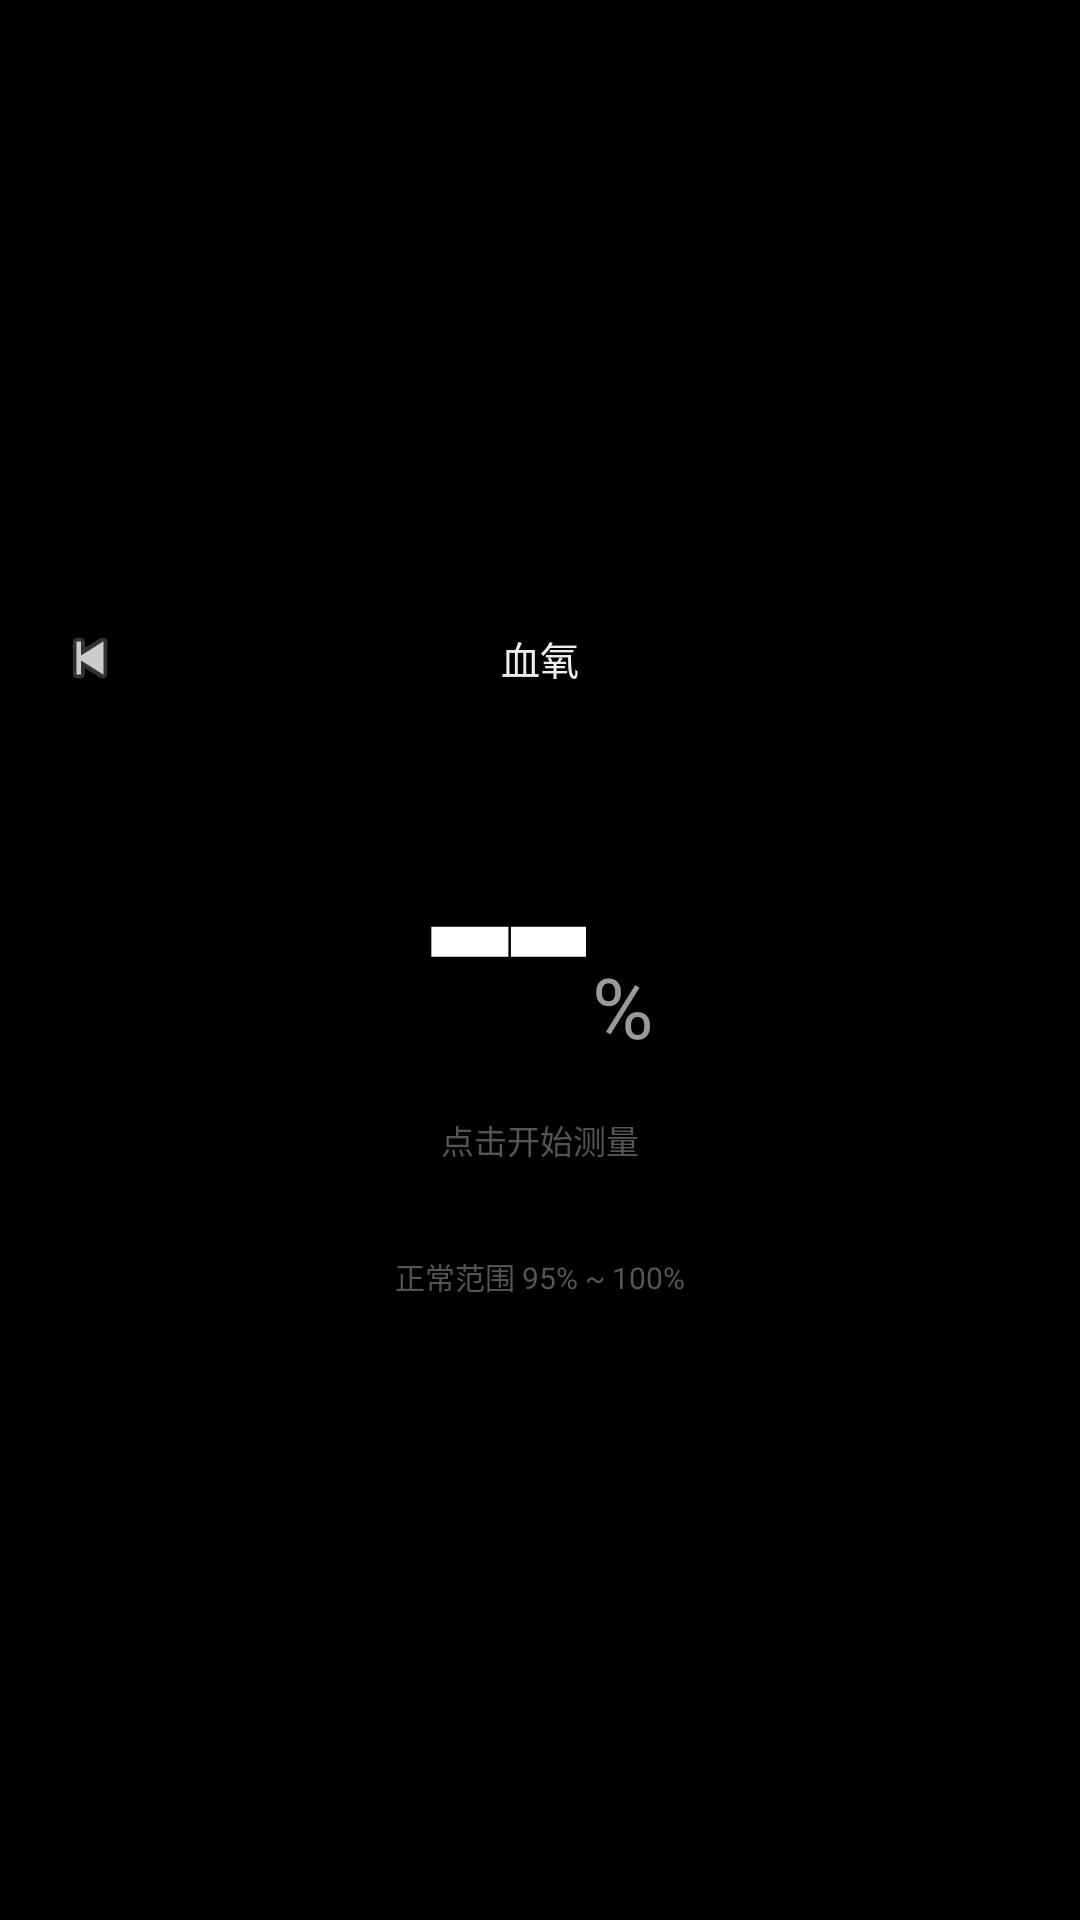

Where icons sit on this 1080x1920 app screen, as rect(x1, y1, x2, y2):
previous: rect(73, 638, 107, 678)
